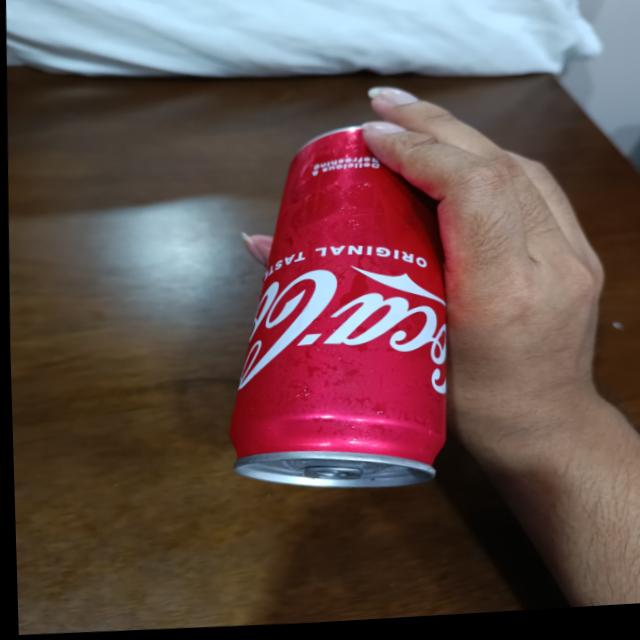coke: (212, 123, 462, 503)
